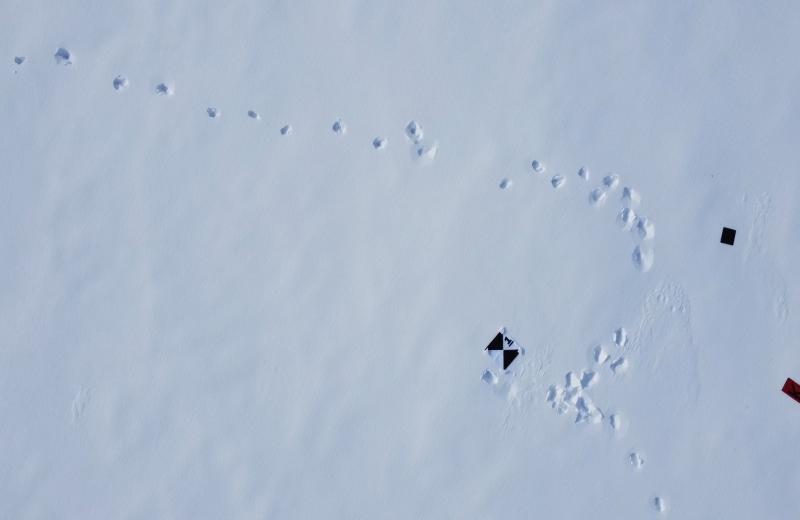Rectangle: (775, 373, 800, 407)
Square: (715, 226, 738, 252)
